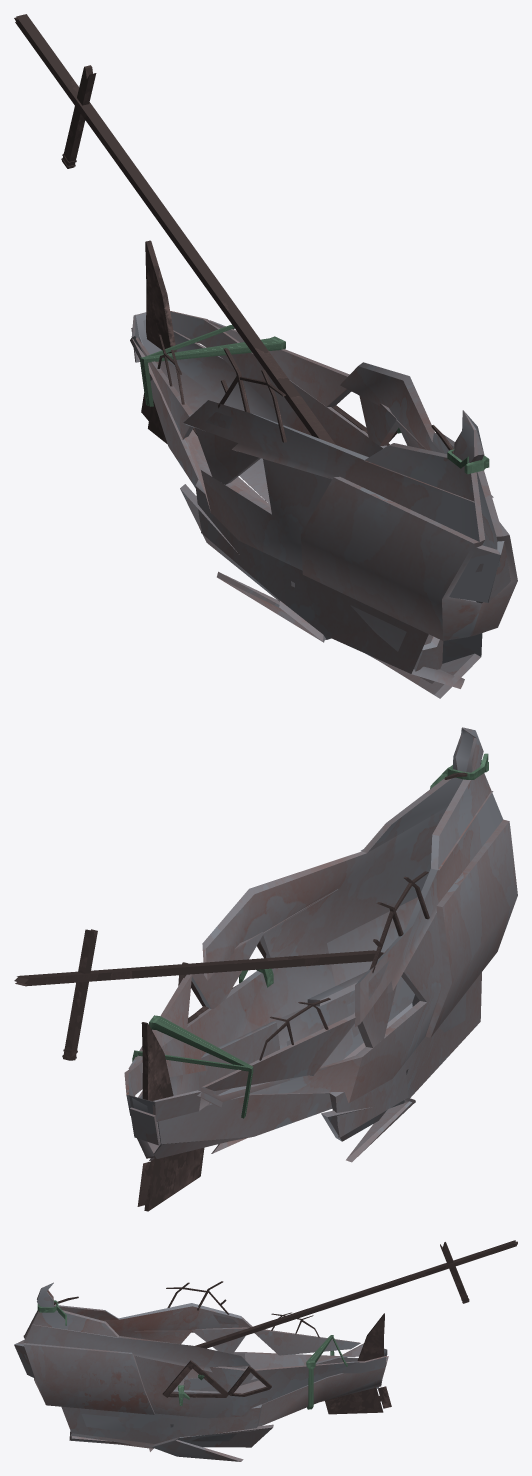
Rendered from sunkenship_temp.fbx.
3 renders of one model, top to bottom at view 1: azimuth 30°, elevation 25°; view 2: azimuth 150°, elevation 25°; view 3: azimuth 270°, elevation 25°, orthographic. The views are drawn at different scales.
Visible parts, largest first — view 1: Cube_2_2, Cube_2, Cube_1, Cube_11, Cube_3; view 2: Cube_2_2, Cube_2, Cube.001, Cube_11, Cube_1, Cube_3, Cube_7, Cube_4; view 3: Cube_2_2, Cube_2, Cube.001, Cube_8, Cube_1, Cube_11, Cube_9, Cube_3.
Boxes of the visible parts, <box> form: Cube_2_2: <box>130,311,517,698</box>; Cube_2: <box>14,14,335,444</box>; Cube_1: <box>145,240,176,353</box>; Cube_11: <box>140,325,285,406</box>; Cube_3: <box>61,65,96,168</box>; Cube_2_2: <box>124,727,517,1162</box>; Cube_2: <box>14,950,383,986</box>; Cube.001: <box>137,1148,204,1211</box>; Cube_11: <box>132,1015,253,1118</box>; Cube_1: <box>141,1022,173,1101</box>; Cube_3: <box>62,929,97,1060</box>; Cube_7: <box>259,997,330,1060</box>; Cube_4: <box>369,902,403,972</box>; Cube_2_2: <box>14,1282,388,1461</box>; Cube_2: <box>195,1240,517,1348</box>; Cube.001: <box>324,1386,391,1414</box>; Cube_8: <box>162,1360,228,1397</box>; Cube_1: <box>357,1313,384,1361</box>; Cube_11: <box>306,1335,347,1409</box>; Cube_9: <box>228,1366,271,1396</box>; Cube_3: <box>440,1242,469,1303</box>.
Bounding box in the file's own units: 354 × 713 × 1564.
Materials: 15 (15 with a texture image).
